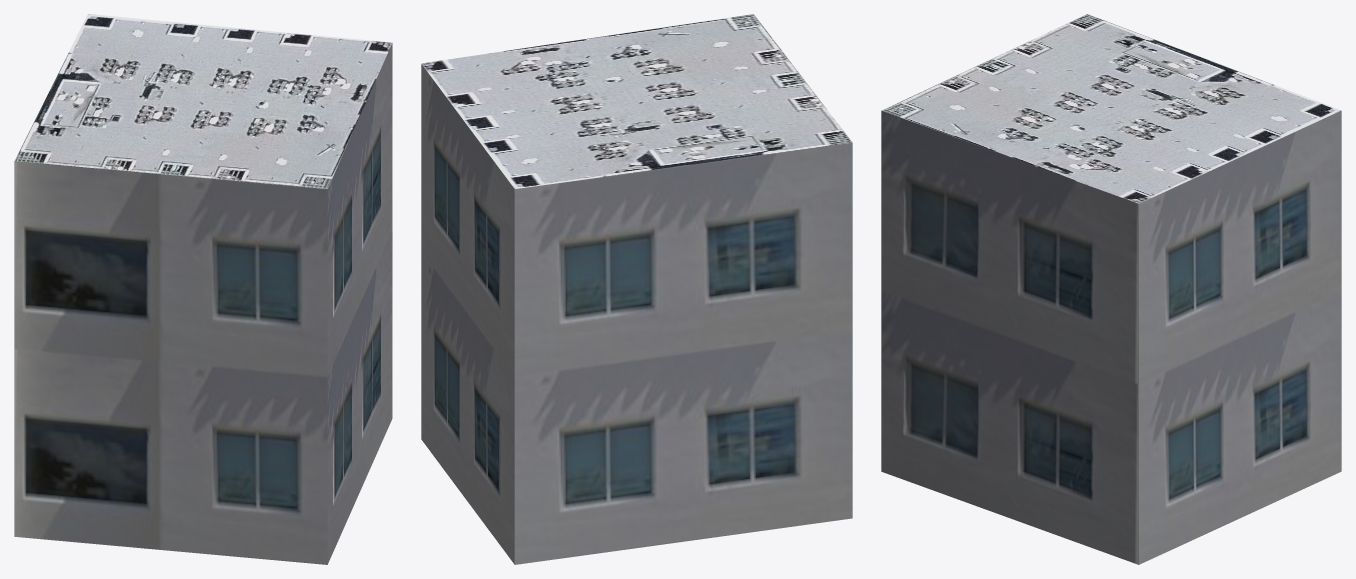
The model's file is ResTex__1675.fbx.
3 renders of one model, left to right at view 1: azimuth 30°, elevation 25°; view 2: azimuth 150°, elevation 25°; view 3: azimuth 270°, elevation 25°, orthographic. The views are drawn at different scales.
Parts seen in each view (by area): view 1: CityEngineMaterial_10_m, CityEngineMaterial_8_m; view 2: CityEngineMaterial_10_m, CityEngineMaterial_8_m; view 3: CityEngineMaterial_10_m, CityEngineMaterial_8_m.
Boxes of the visible parts, x1,y1,x2,y2 form: CityEngineMaterial_10_m: (14,43,392,564); CityEngineMaterial_8_m: (14,14,391,188); CityEngineMaterial_10_m: (421,64,852,564); CityEngineMaterial_8_m: (421,14,852,188); CityEngineMaterial_10_m: (881,110,1341,564); CityEngineMaterial_8_m: (882,14,1340,203).
Bounding box in the file's own units: 6.76 × 6 × 6.93.
2 materials, 2 textured.
